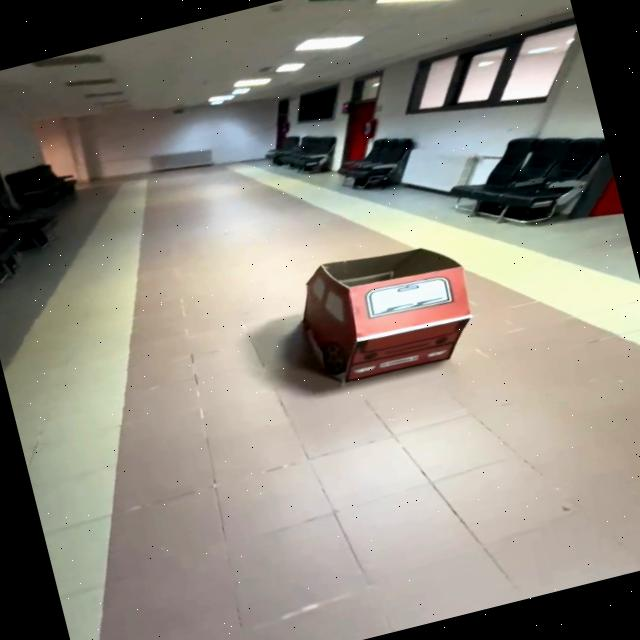red_car: (255, 207, 521, 418)
